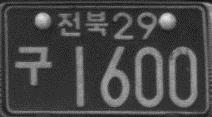0: (169, 45, 197, 107), (136, 46, 164, 107)
1: (72, 43, 87, 106)
2: (112, 11, 134, 42)
6: (99, 42, 129, 107)
9: (136, 10, 158, 41)
구: (14, 43, 53, 89)
전북_O: (56, 10, 109, 37)
